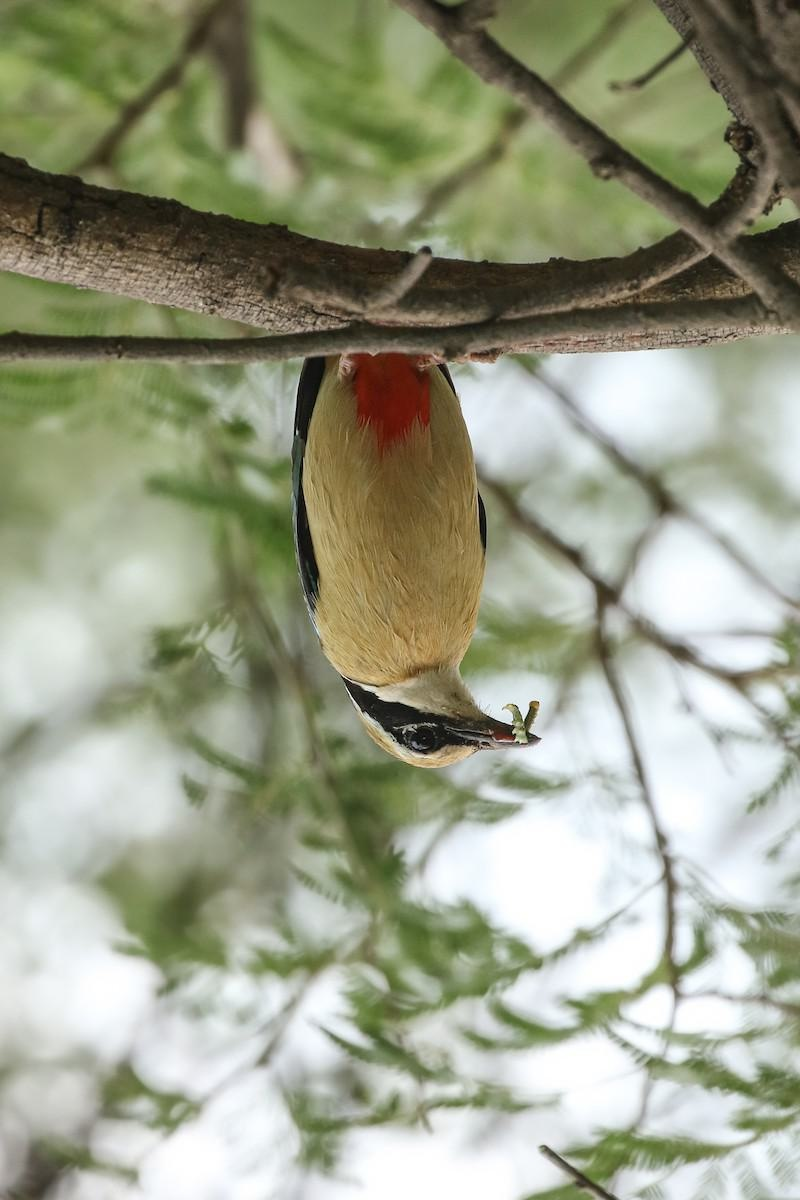pitta: (232, 191, 594, 821)
